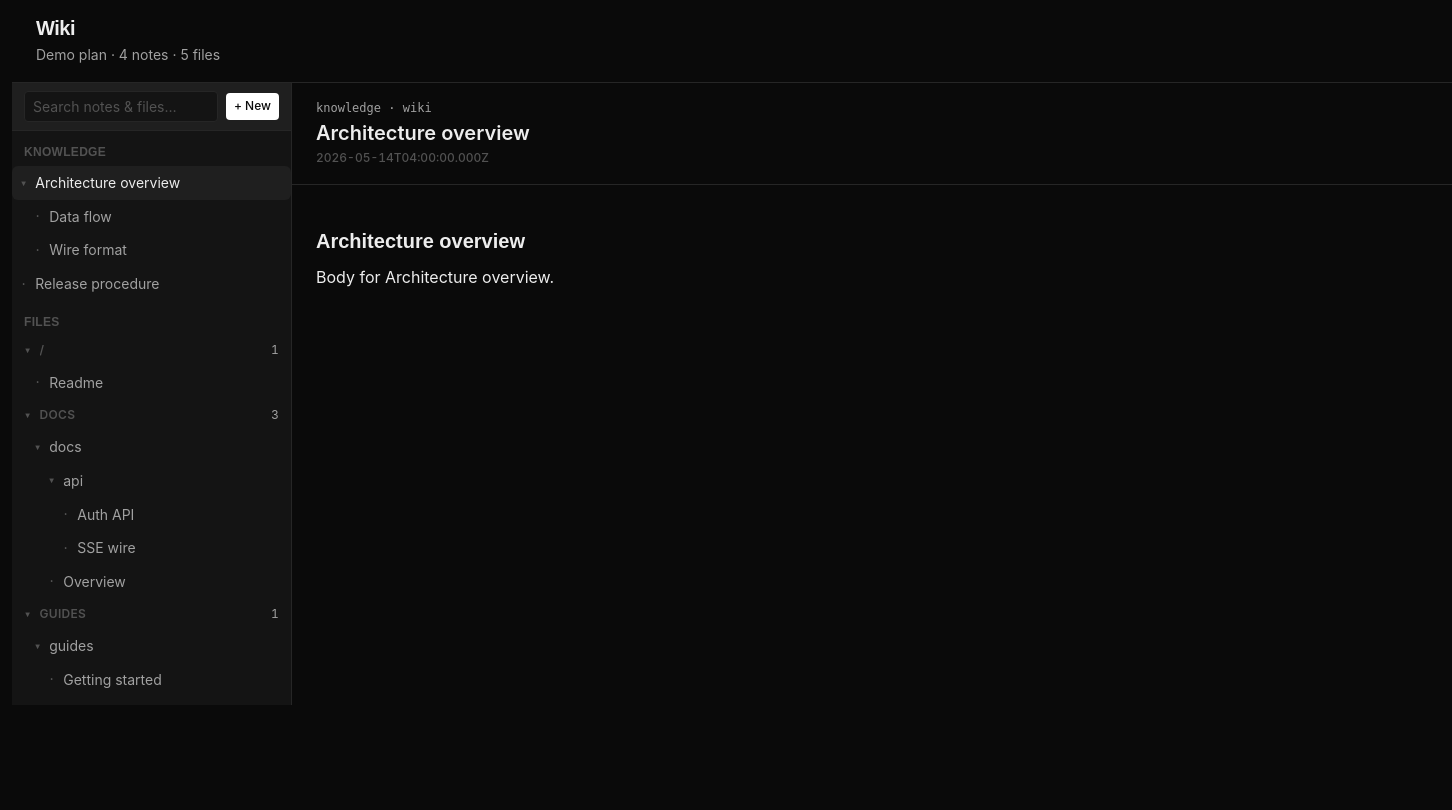
it: WikiView (knowledge tree) › switches the reader to a knowledge entry when its row is clicked
Click the button with test id "wiki-knowledge-row" showing "Wire format": click(143, 250) x1=49 y1=233 x2=237 y2=267
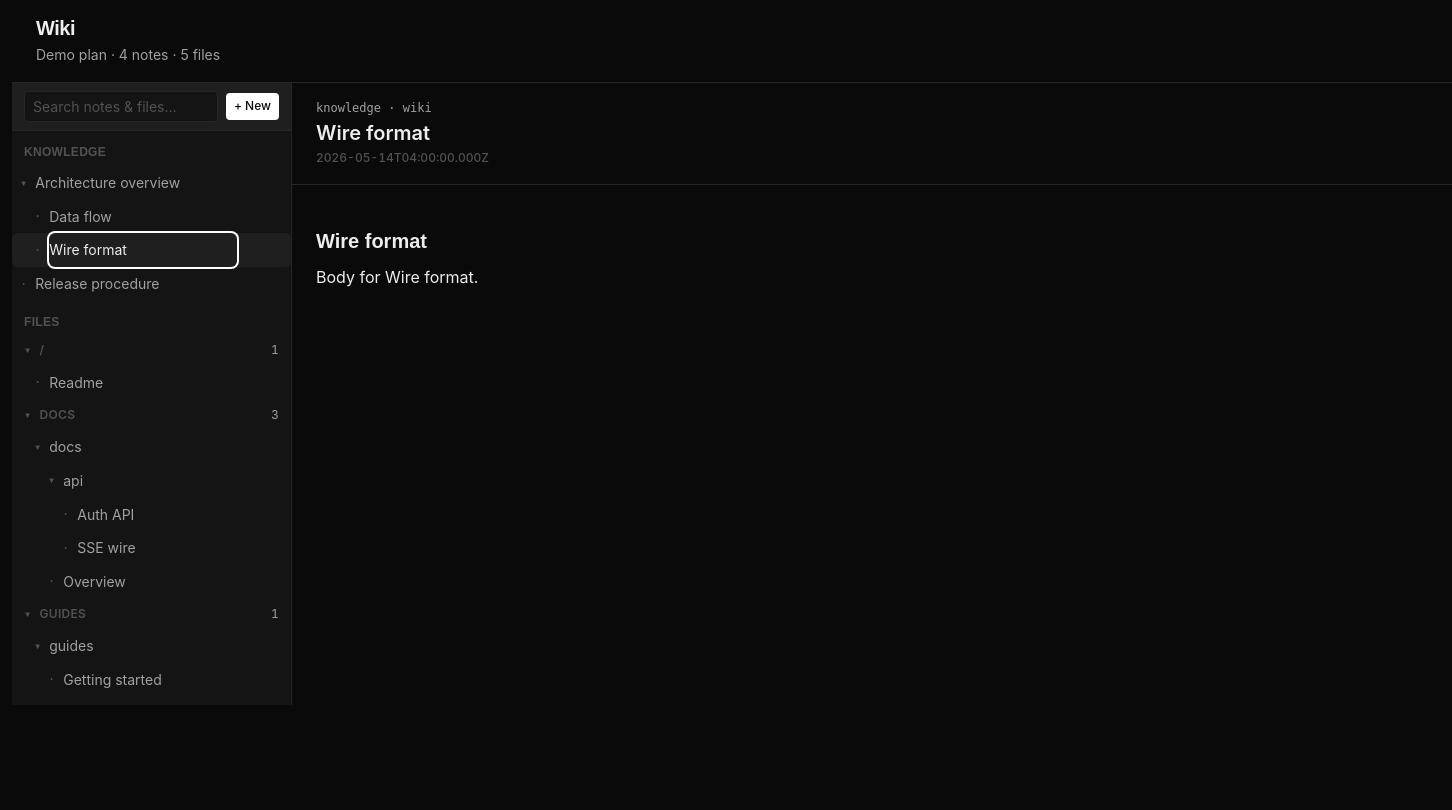
Expected: the text with test id "wiki-reader-title" reads "Wire format", x1=316 y1=121 x2=430 y2=145
